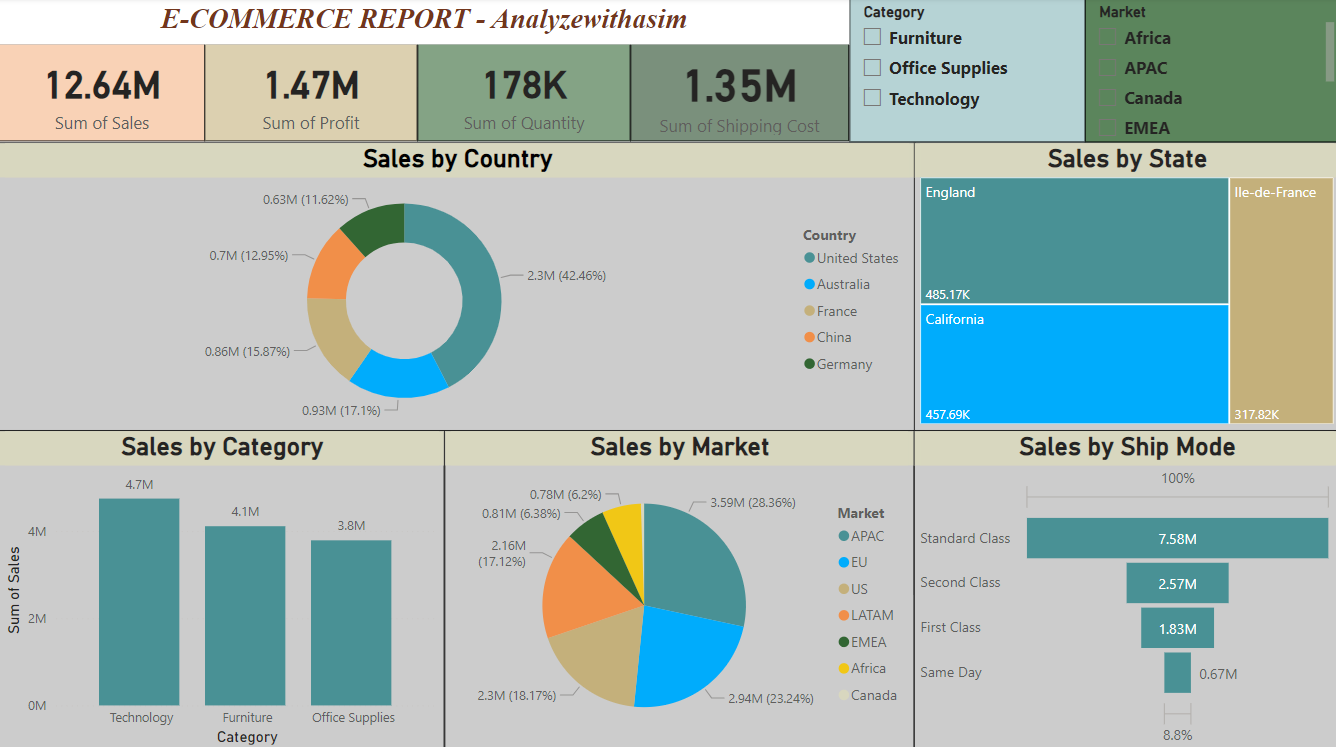

The dashboard page shown, as its layout file describes it:
{"tool":"powerbi","page":{"name":"E-Commerce","canvas":[1280,720],"ordinal":0},"visuals":[{"type":"columnChart","title":"Sales by Category","fields":{"Category":["Orders.Category"],"Y":["Sum(Orders.Sales)"]},"box":[0,414,425.4,306.5],"z":0},{"type":"pieChart","title":"Sales by Market","fields":{"Category":["Orders.Market"],"Y":["Sum(Orders.Sales)"]},"box":[425,413.3,448.3,306.7],"z":1000},{"type":"funnel","title":"Sales by Ship Mode","fields":{"Category":["Orders.Ship Mode"],"Y":["Sum(Orders.Sales)"]},"box":[873.3,413.3,406.7,306.7],"z":2000},{"type":"donutChart","title":"Sales by Country","fields":{"Category":["Orders.Country"],"Y":["Sum(Orders.Sales)"]},"box":[0,138.3,875,275],"z":3000},{"type":"treemap","title":"Sales by State","fields":{"Group":["Orders.State"],"Values":["Sum(Orders.Sales)"]},"box":[873.3,138.3,406.7,275],"z":4000},{"type":"card","fields":{"Values":["Sum(Orders.Sales)"]},"box":[0,45,196.7,93.3],"z":5000},{"type":"card","fields":{"Values":["Sum(Orders.Profit)"]},"box":[196.7,45,203.3,93.3],"z":6000},{"type":"card","fields":{"Values":["Sum(Orders.Quantity)"]},"box":[400,45,203.3,93.3],"z":7000},{"type":"card","fields":{"Values":["Sum(Orders.Shipping Cost)"]},"box":[603.3,45,208.3,93.3],"z":8000},{"type":"slicer","fields":{"Values":["Orders.Category"]},"box":[811.7,0,225,138.3],"z":9000},{"type":"slicer","fields":{"Values":["Orders.Market"]},"box":[1036.7,0,243.3,138.3],"z":10000},{"type":"textbox","box":[0,0,811.7,45],"z":11000}]}

Visuals, with their boxes in screenshot pixels (x1, y1, x2, y2), scaled from the page's 1280x720 canvas onto the 1336x747 screenshot:
"Sales by Category" columnChart: <region>0, 430, 444, 746</region>
"Sales by Market" pieChart: <region>444, 429, 912, 746</region>
"Sales by Ship Mode" funnel: <region>912, 429, 1335, 746</region>
"Sales by Country" donutChart: <region>0, 143, 913, 429</region>
"Sales by State" treemap: <region>912, 143, 1335, 429</region>
card - Sum(Orders.Sales): <region>0, 47, 205, 143</region>
card - Sum(Orders.Profit): <region>205, 47, 418, 143</region>
card - Sum(Orders.Quantity): <region>418, 47, 630, 143</region>
card - Sum(Orders.Shipping Cost): <region>630, 47, 847, 143</region>
slicer - Orders.Category: <region>847, 0, 1082, 143</region>
slicer - Orders.Market: <region>1082, 0, 1335, 143</region>
textbox: <region>0, 0, 847, 47</region>
